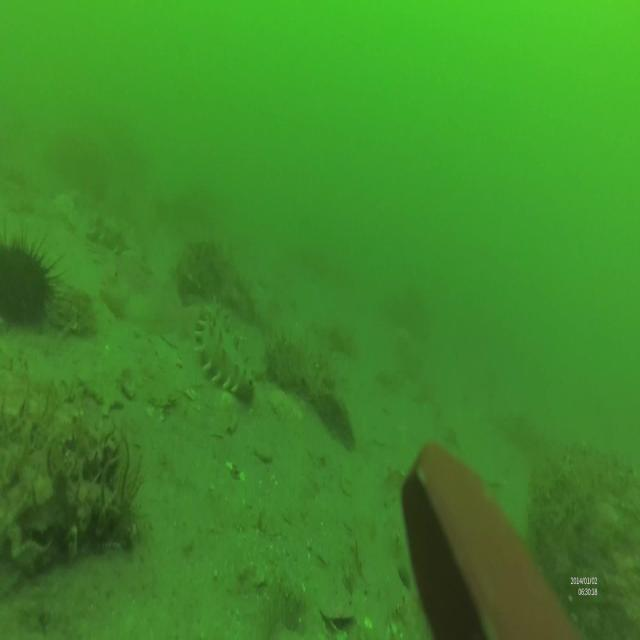echinus: (0, 224, 66, 334)
holothurian: (193, 302, 254, 401), (87, 208, 133, 256)
